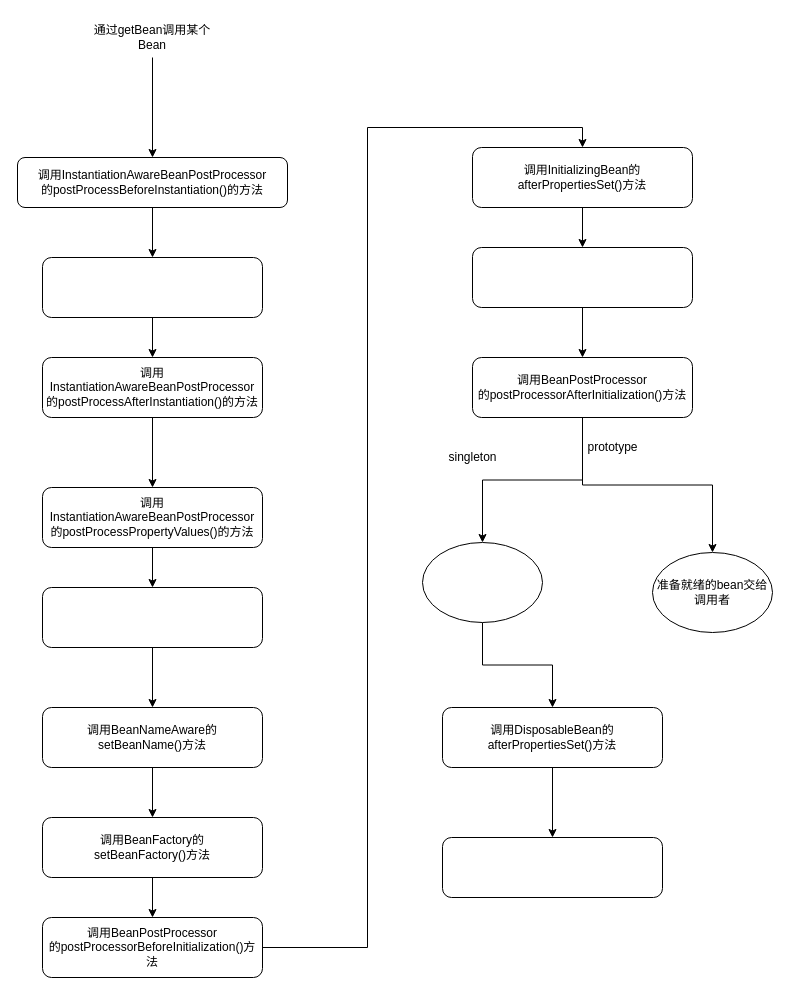
The diagram is 790 pixels wide and 995 high, and some of its shapes have lost their labels. Each missing label, with the box of its shape:
BeanWrapper设置属性: (42, 586, 262, 648)
spring缓冲池准备就绪的bean: (422, 542, 542, 622)
实例化: (42, 256, 262, 318)
调用通过destory-mathod配置销毁方法: (442, 836, 662, 898)
调用通过Init-mathod配置初始化方法: (472, 246, 692, 308)
